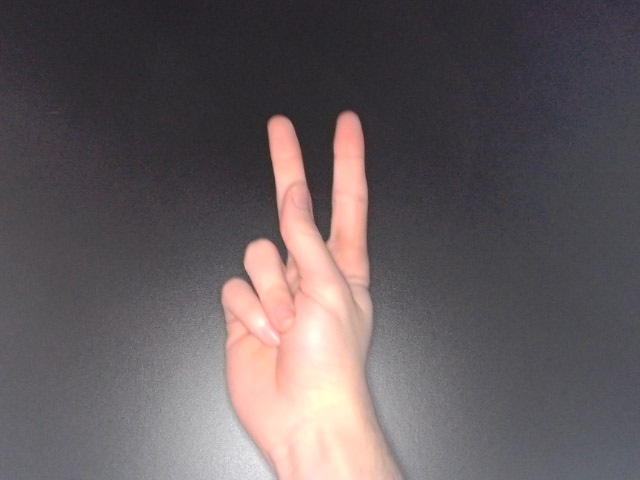k: (214, 107, 378, 473)
